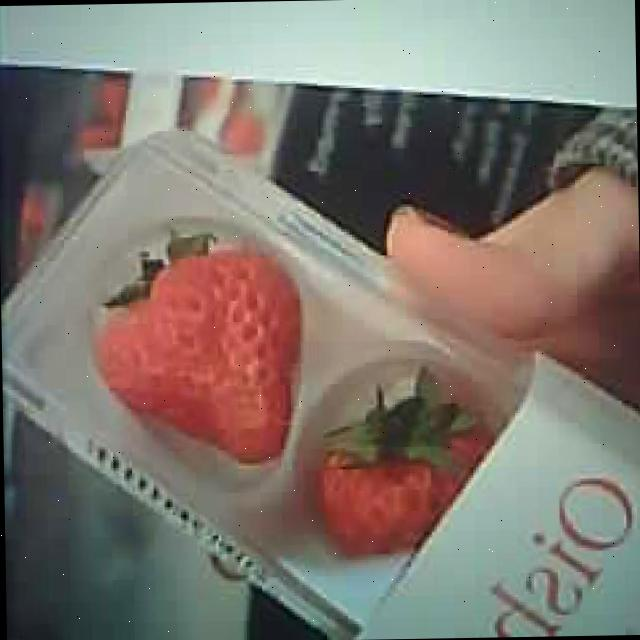strawberry: (92, 246, 298, 462)
